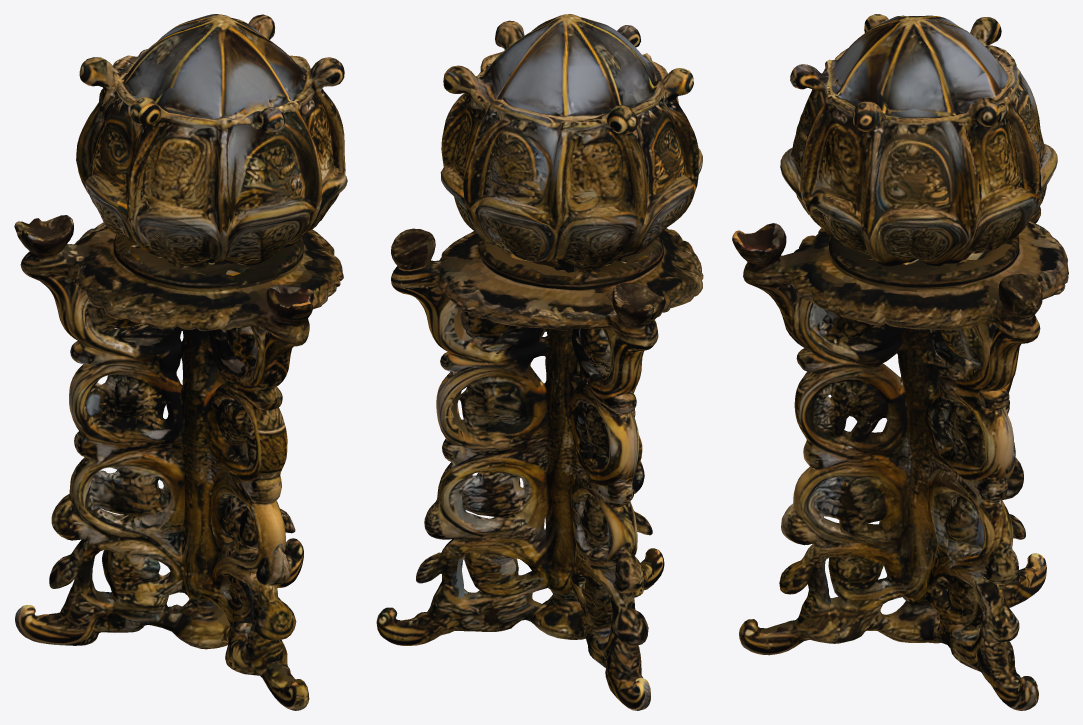
3 renders of one model, left to right at view 1: azimuth 30°, elevation 25°; view 2: azimuth 150°, elevation 25°; view 3: azimuth 270°, elevation 25°, orthographic. The views are drawn at different scales.
Parts seen in each view (by area): view 1: textured_mesh; view 2: textured_mesh; view 3: textured_mesh.
Boxes of the visible parts, box(x1,y1,x2,y2) form: textured_mesh: box(14, 14, 347, 710); textured_mesh: box(376, 14, 703, 710); textured_mesh: box(732, 14, 1068, 710).
Size of the model in its own units: 0.9358 by 1.99 by 0.9521.
1 material, 1 textured.
